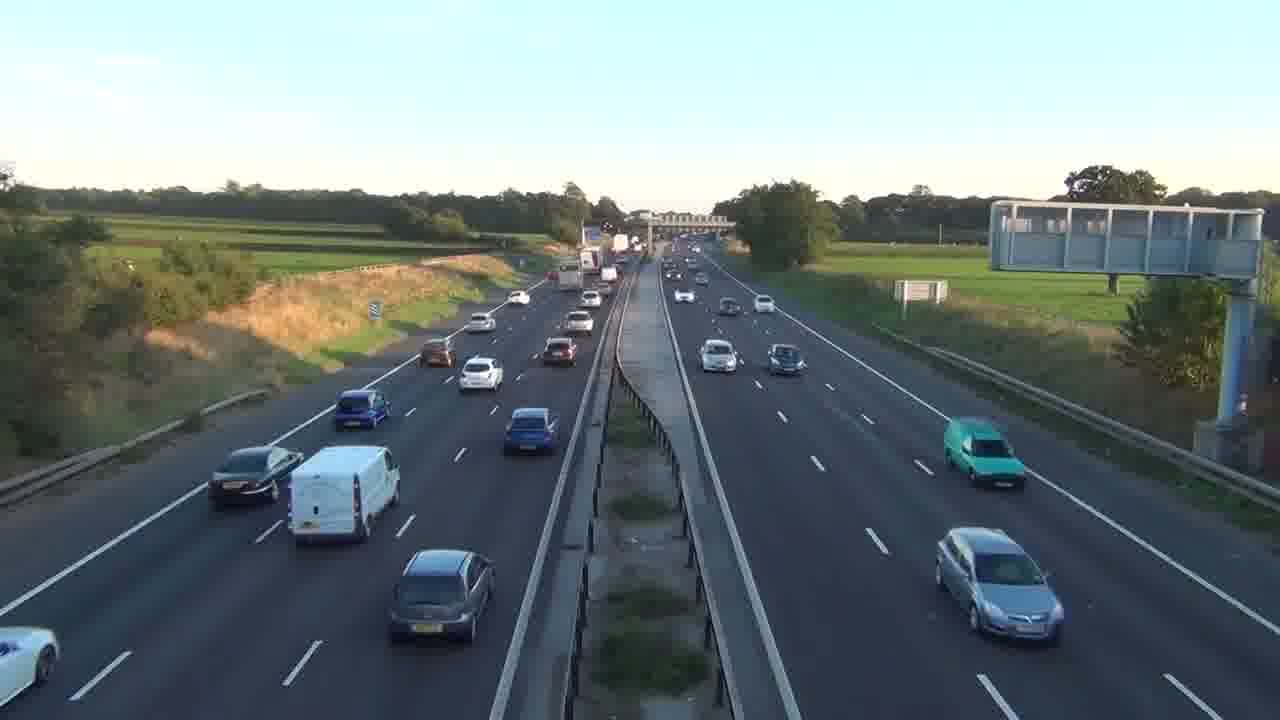car: (935, 526, 1066, 645), (387, 547, 498, 644), (207, 444, 304, 508), (0, 624, 60, 707), (503, 406, 561, 455), (334, 388, 389, 431), (458, 354, 504, 391), (698, 338, 741, 374), (766, 343, 808, 376), (417, 339, 456, 368), (542, 336, 577, 367)
truck: (287, 443, 402, 546), (943, 416, 1027, 489)
